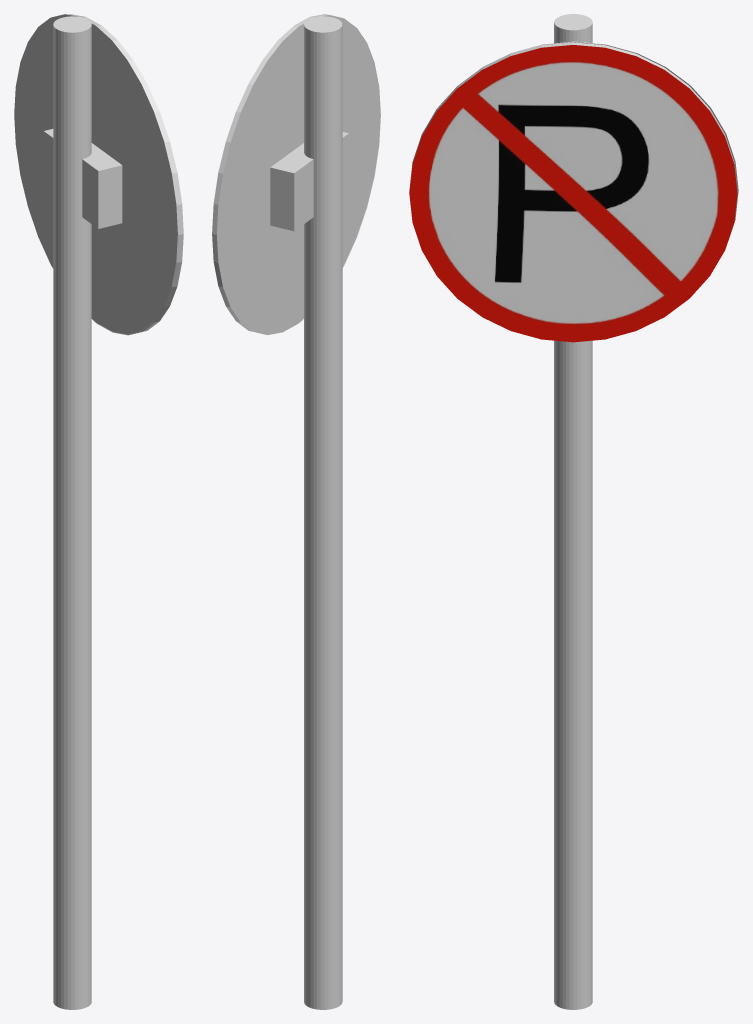
Rendered from Lar.Parkir.fbx.
3 views of the same model, side by side, from view 1: azimuth 30°, elevation 25°; view 2: azimuth 150°, elevation 25°; view 3: azimuth 270°, elevation 25° (orthographic).
Parts seen in each view (by area): view 1: Cylinder, Cylinder.001, Cube; view 2: Cylinder, Cylinder.001, Cube; view 3: Cylinder.001, Cylinder.
Part boxes in pixels (x1=…): Cylinder: x1=53, y1=16, x2=91, y2=1009; Cylinder.001: x1=14, y1=14, x2=183, y2=335; Cube: x1=43, y1=129, x2=122, y2=228; Cylinder: x1=304, y1=16, x2=342, y2=1009; Cylinder.001: x1=212, y1=14, x2=380, y2=335; Cube: x1=270, y1=132, x2=348, y2=231; Cylinder.001: x1=409, y1=41, x2=738, y2=342; Cylinder: x1=554, y1=14, x2=592, y2=1009.
Bounding box in the file's own units: 35.85 × 727 × 222.
